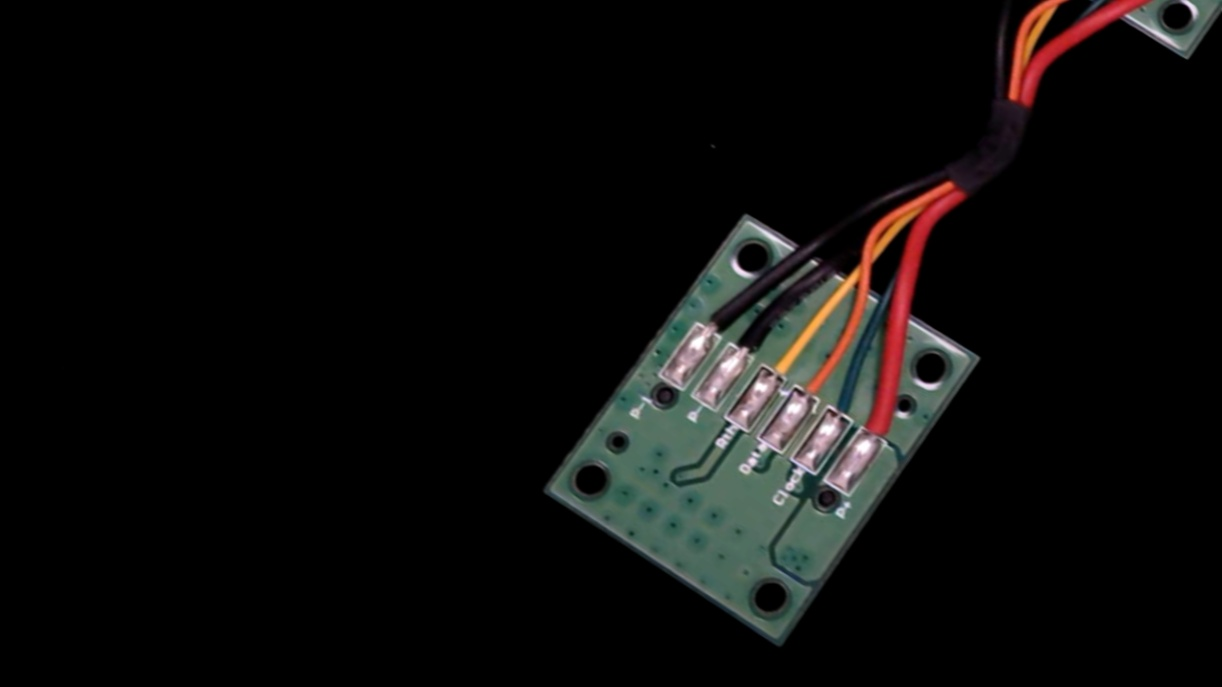Black: (713, 298, 790, 379)
Black1: (682, 283, 754, 357)
Green: (808, 367, 881, 446)
Orange: (778, 344, 850, 423)
Red: (844, 385, 917, 464)
Yellow: (743, 318, 819, 399)
